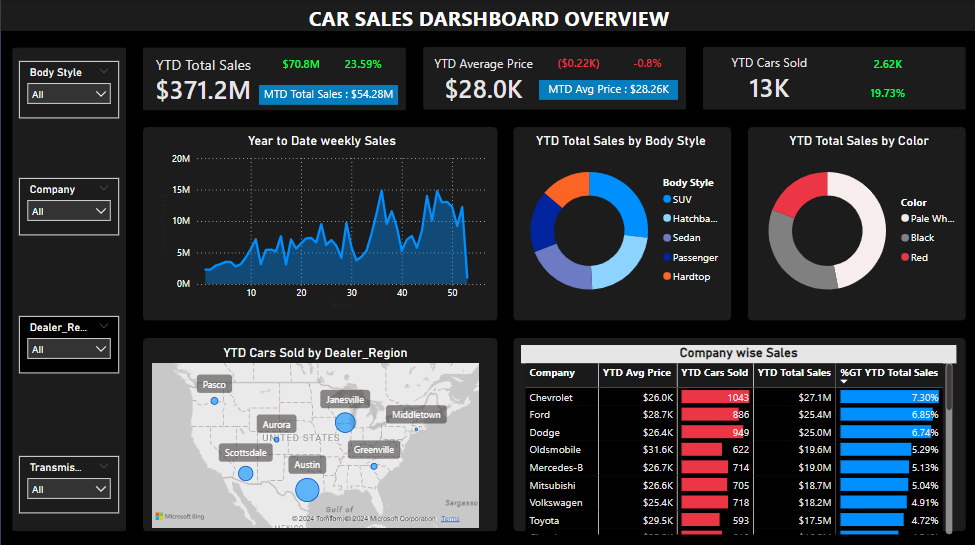

The page's visual inventory and layout, read from the dashboard file:
{"tool":"powerbi","page":{"name":"Page 1","canvas":[1280,720],"ordinal":0},"visuals":[{"type":"card","title":"YTD Total Sales","fields":{"Values":["car_data.YTD Total Sales"]},"box":[194.1,71.6,144.9,65.6],"z":0},{"type":"card","fields":{"Values":["car_data.Sales Difference"]},"box":[353,72,82,26],"z":1000},{"type":"card","fields":{"Values":["car_data.YOY Sales Growth"]},"box":[435,72,82,26],"z":2000},{"type":"card","fields":{"Values":["car_data.MTD KPI"]},"box":[339,111.3,182,25.9],"z":3000},{"type":"card","title":"YTD Average Price","fields":{"Values":["car_data.YTD Avg Price"]},"box":[560.4,71.8,145.4,65.6],"z":4000},{"type":"card","fields":{"Values":["car_data.Avg Price Difference"]},"box":[716.5,70.9,82.5,26.6],"z":5000},{"type":"card","fields":{"Values":["car_data.YOY Avg Price Growth"]},"box":[806.6,71.1,81.7,26.6],"z":6000},{"type":"card","fields":{"Values":["car_data.MTD Avg Price KPI"]},"box":[706.2,104.8,182.1,25.8],"z":7000},{"type":"card","title":"YTD Cars Sold","fields":{"Values":["car_data.YTD Cars Sold"]},"box":[935,71,144.8,65.5],"z":8000},{"type":"card","fields":{"Values":["car_data.Cars Sold Diff"]},"box":[1111.6,71,102,29.1],"z":9000},{"type":"card","fields":{"Values":["car_data.YOY Car sold Growth"]},"box":[1111.6,110.2,102,26.4],"z":10000},{"type":"areaChart","title":"Year to Date weekly Sales","fields":{"Y":["Sum(car_data.Price ($))"],"Category":["Calender Table.Week"]},"box":[203,173.9,437,236.7],"z":11000},{"type":"donutChart","fields":{"Category":["car_data.Body Style"],"Y":["car_data.YTD Total Sales"]},"box":[670,173.7,285.4,236.8],"z":12000},{"type":"donutChart","fields":{"Y":["car_data.YTD Total Sales"],"Category":["car_data.Color"]},"box":[982.2,173.7,285.4,236.8],"z":13000},{"type":"tableEx","title":"Company wise Sales ","fields":{"Values":["car_data.Company","car_data.YTD Avg Price","car_data.YTD Cars Sold","car_data.YTD Total Sales1","car_data.YTD Total Sales"]},"box":[682.4,451.8,569.7,253.3],"z":14000},{"type":"map","fields":{"Size":["car_data.YTD Cars Sold"],"Category":["car_data.Dealer_Region"]},"box":[194.4,451.8,438.4,244],"z":15000},{"type":"textbox","box":[285,0,710,53],"z":15001},{"type":"slicer","fields":{"Values":["car_data.Dealer_Region"]},"box":[25,414,131,75],"z":15003},{"type":"slicer","fields":{"Values":["car_data.Transmission"]},"box":[25,597,131,75],"z":15004},{"type":"slicer","fields":{"Values":["car_data.Body Style"]},"box":[25,80,131,75],"z":15005},{"type":"slicer","fields":{"Values":["car_data.Company"]},"box":[25,233,131,75],"z":15006}]}

Visuals, with their boxes in screenshot pixels (x1, y1, x2, y2), scaled from the page's 1280x720 canvas onto the 975x545 screenshot:
"YTD Total Sales" card: x1=148 y1=54 x2=258 y2=104
card - car_data.Sales Difference: x1=269 y1=54 x2=331 y2=74
card - car_data.YOY Sales Growth: x1=331 y1=54 x2=394 y2=74
card - car_data.MTD KPI: x1=258 y1=84 x2=397 y2=104
"YTD Average Price" card: x1=427 y1=54 x2=538 y2=104
card - car_data.Avg Price Difference: x1=546 y1=54 x2=609 y2=74
card - car_data.YOY Avg Price Growth: x1=614 y1=54 x2=677 y2=74
card - car_data.MTD Avg Price KPI: x1=538 y1=79 x2=677 y2=99
"YTD Cars Sold" card: x1=712 y1=54 x2=823 y2=103
card - car_data.Cars Sold Diff: x1=847 y1=54 x2=924 y2=76
card - car_data.YOY Car sold Growth: x1=847 y1=83 x2=924 y2=103
"Year to Date weekly Sales" areaChart: x1=155 y1=132 x2=488 y2=311
donutChart - car_data.Body Style x car_data.YTD Total Sales: x1=510 y1=131 x2=728 y2=311
donutChart - car_data.YTD Total Sales x car_data.Color: x1=748 y1=131 x2=966 y2=311
"Company wise Sales " tableEx: x1=520 y1=342 x2=954 y2=534
map - car_data.YTD Cars Sold x car_data.Dealer_Region: x1=148 y1=342 x2=482 y2=527
textbox: x1=217 y1=0 x2=758 y2=40
slicer - car_data.Dealer_Region: x1=19 y1=313 x2=119 y2=370
slicer - car_data.Transmission: x1=19 y1=452 x2=119 y2=509
slicer - car_data.Body Style: x1=19 y1=61 x2=119 y2=117
slicer - car_data.Company: x1=19 y1=176 x2=119 y2=233
